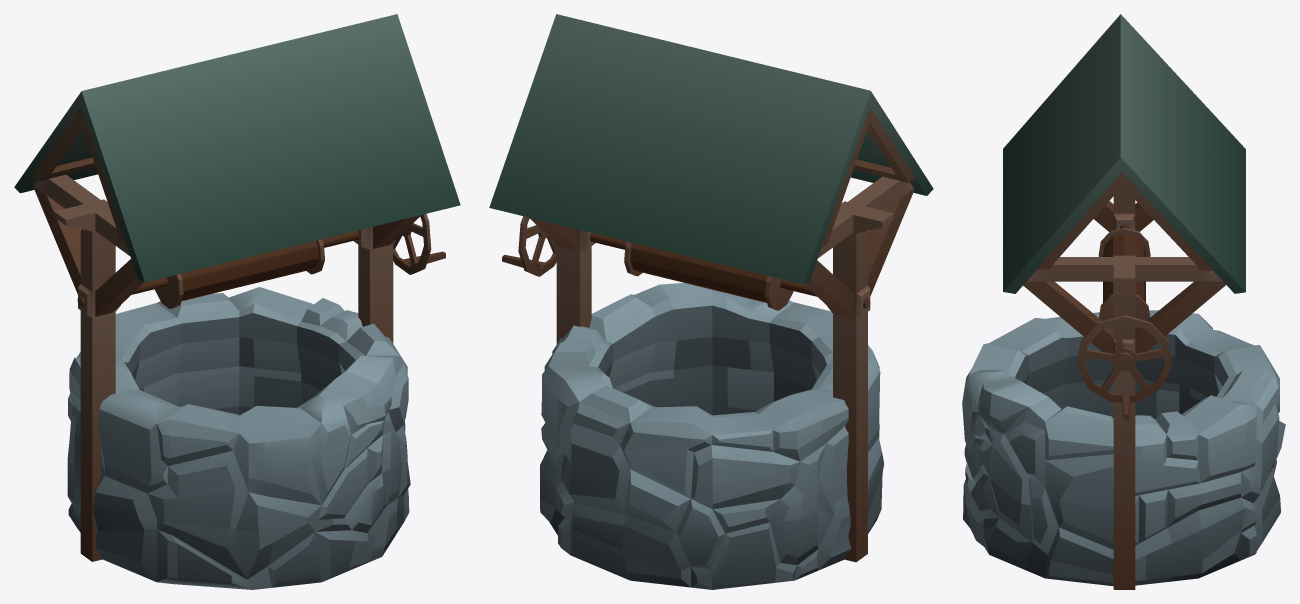
File: well.fbx
3 views of the same model, side by side, from view 1: azimuth 30°, elevation 25°; view 2: azimuth 150°, elevation 25°; view 3: azimuth 270°, elevation 25° (orthographic). The views are drawn at different scales.
Visible parts, largest first — view 1: stone_well, roof, posts, spindle; view 2: stone_well, roof, posts, spindle; view 3: stone_well, roof, posts, spindle.
Part boxes in pixels (x1,y1,x2,y2): stone_well: [67, 287, 410, 589]; roof: [14, 14, 460, 282]; posts: [33, 174, 421, 561]; spindle: [77, 213, 445, 308]; stone_well: [540, 283, 884, 589]; roof: [489, 14, 933, 284]; posts: [529, 176, 914, 562]; spindle: [502, 216, 870, 310]; stone_well: [962, 310, 1285, 586]; roof: [1003, 14, 1245, 293]; posts: [1023, 186, 1225, 589]; spindle: [1077, 224, 1172, 419].
Bounding box in the file's own units: 49.18 × 57.3 × 38.5.
